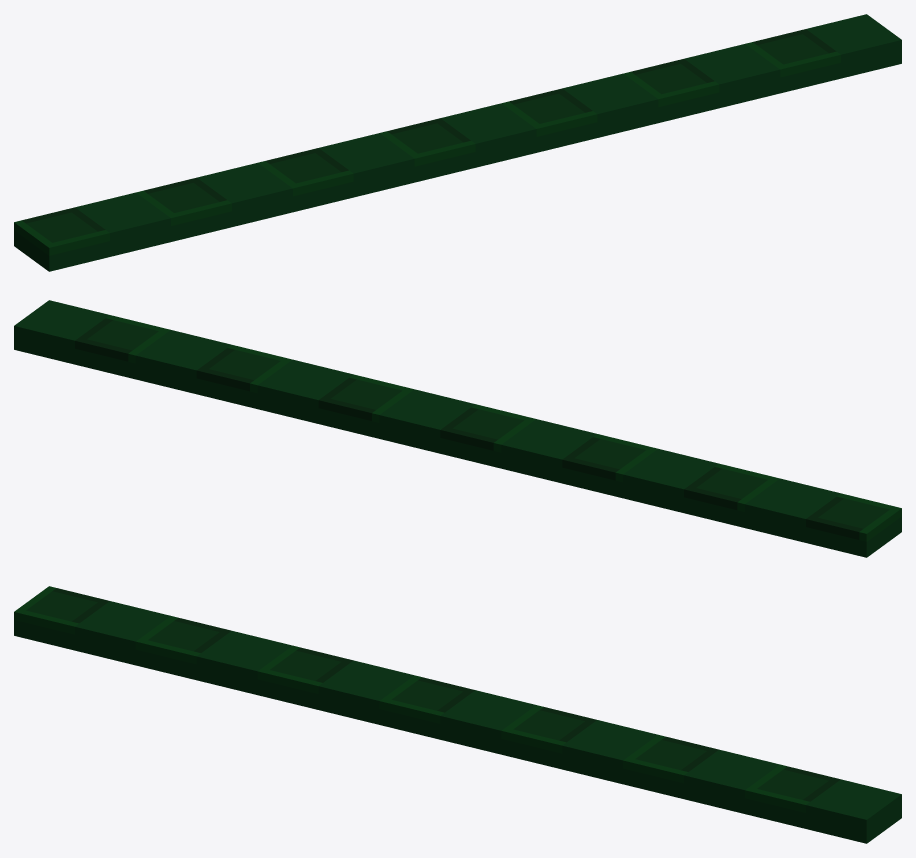
File: BlockL221.obj
The picture shows the model from 3 angles, top to bottom: view 1: azimuth 30°, elevation 25°; view 2: azimuth 150°, elevation 25°; view 3: azimuth 330°, elevation 25°; orthographic projection.
Bounding box in the file's own units: 11.2 × 0.3 × 0.8.
Materials: 1 (1 with a texture image).
